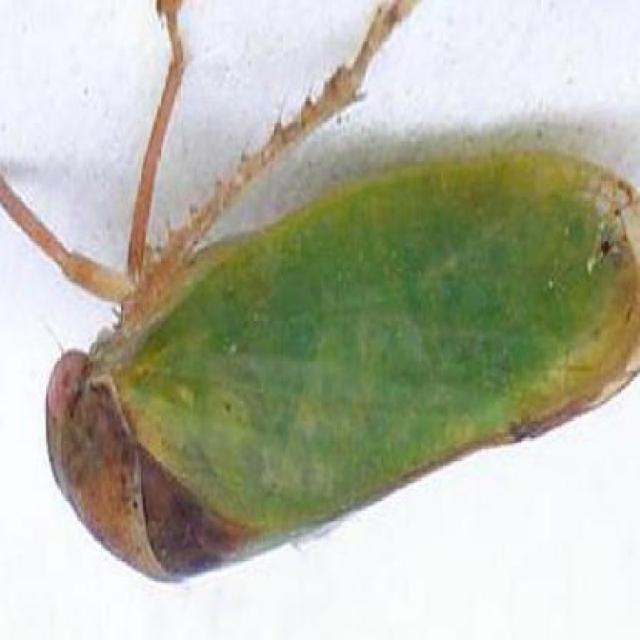green-leafhopper: (41, 168, 636, 580)
